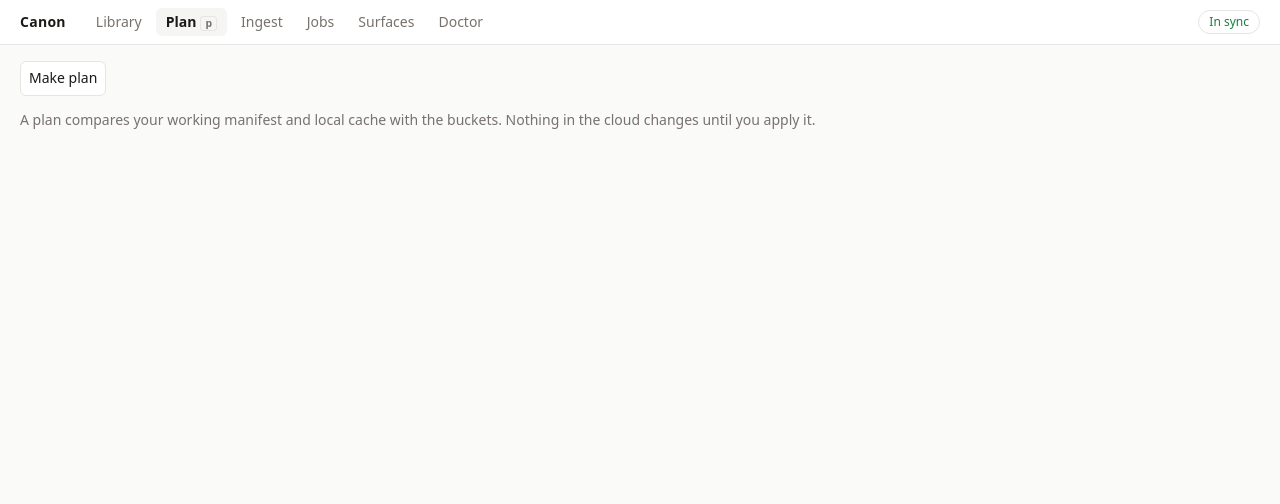
Test: Plan review › says when a plan is stale
The image size is (1280, 504).
Click the button "Make plan" at [63, 78], box x1=20 y1=61 x2=106 y2=96
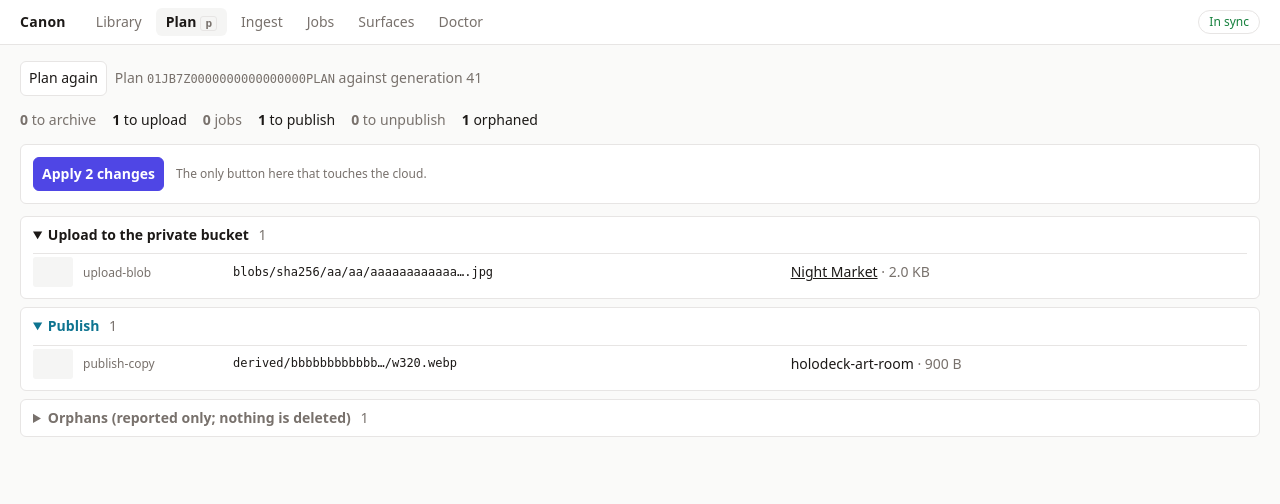
Click the button "Apply 2 changes" at [99, 174], box x1=33 y1=157 x2=164 y2=191
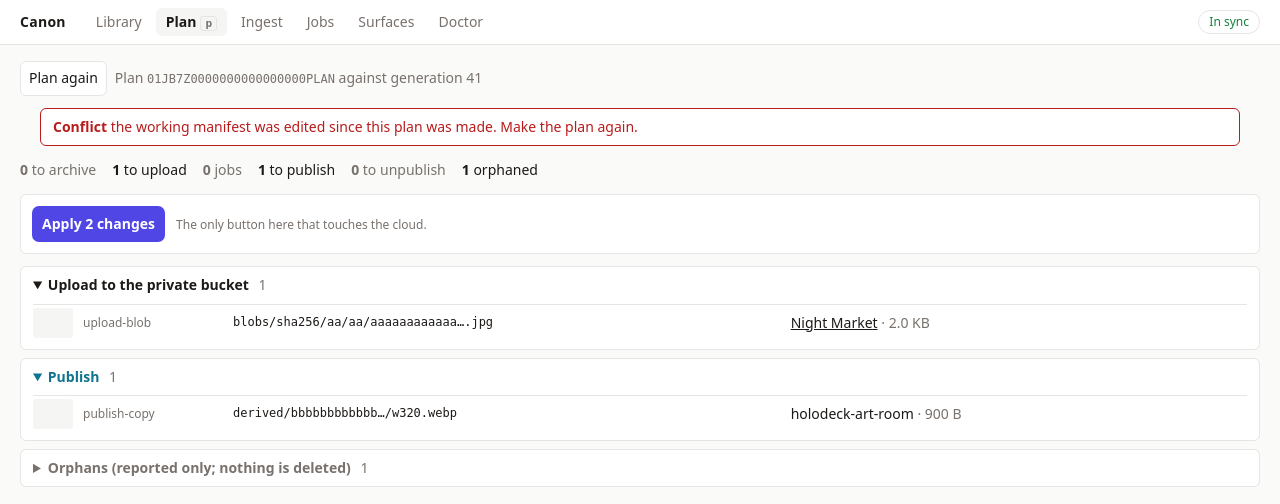
Check: the text "Make the plan again" is shown, box x1=111 y1=117 x2=638 y2=136
